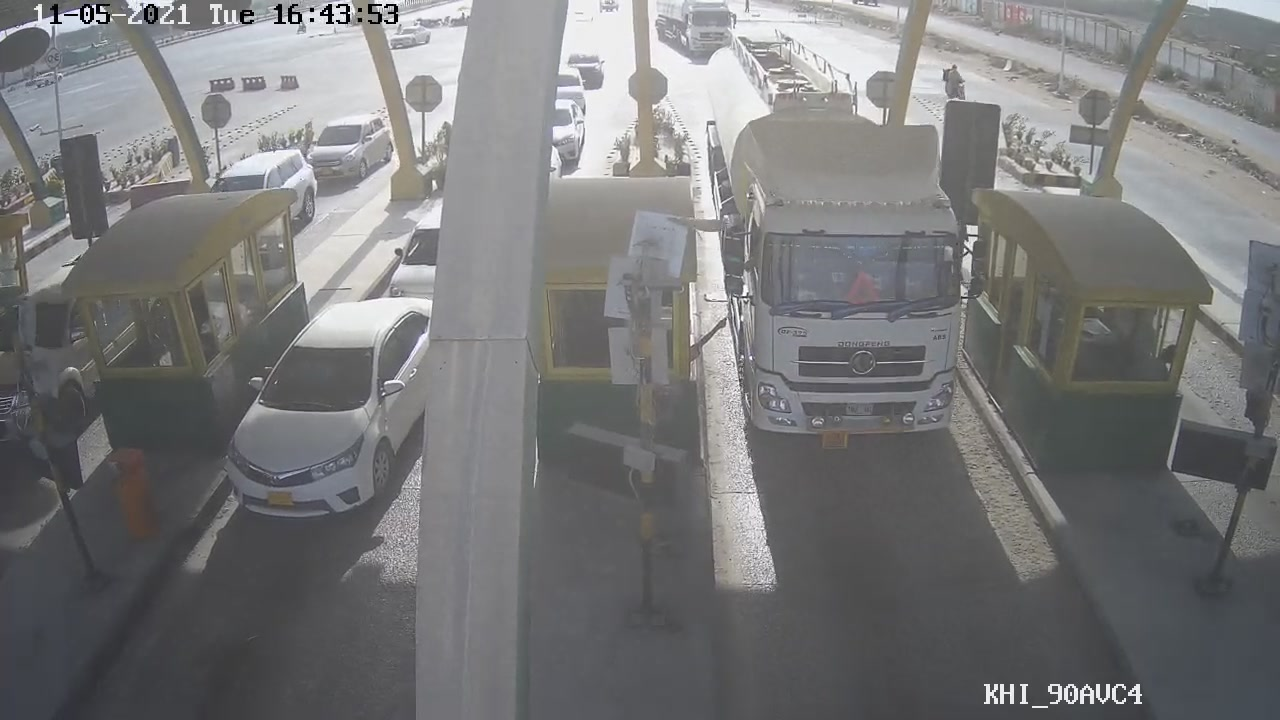F6: (689, 31, 990, 454)
